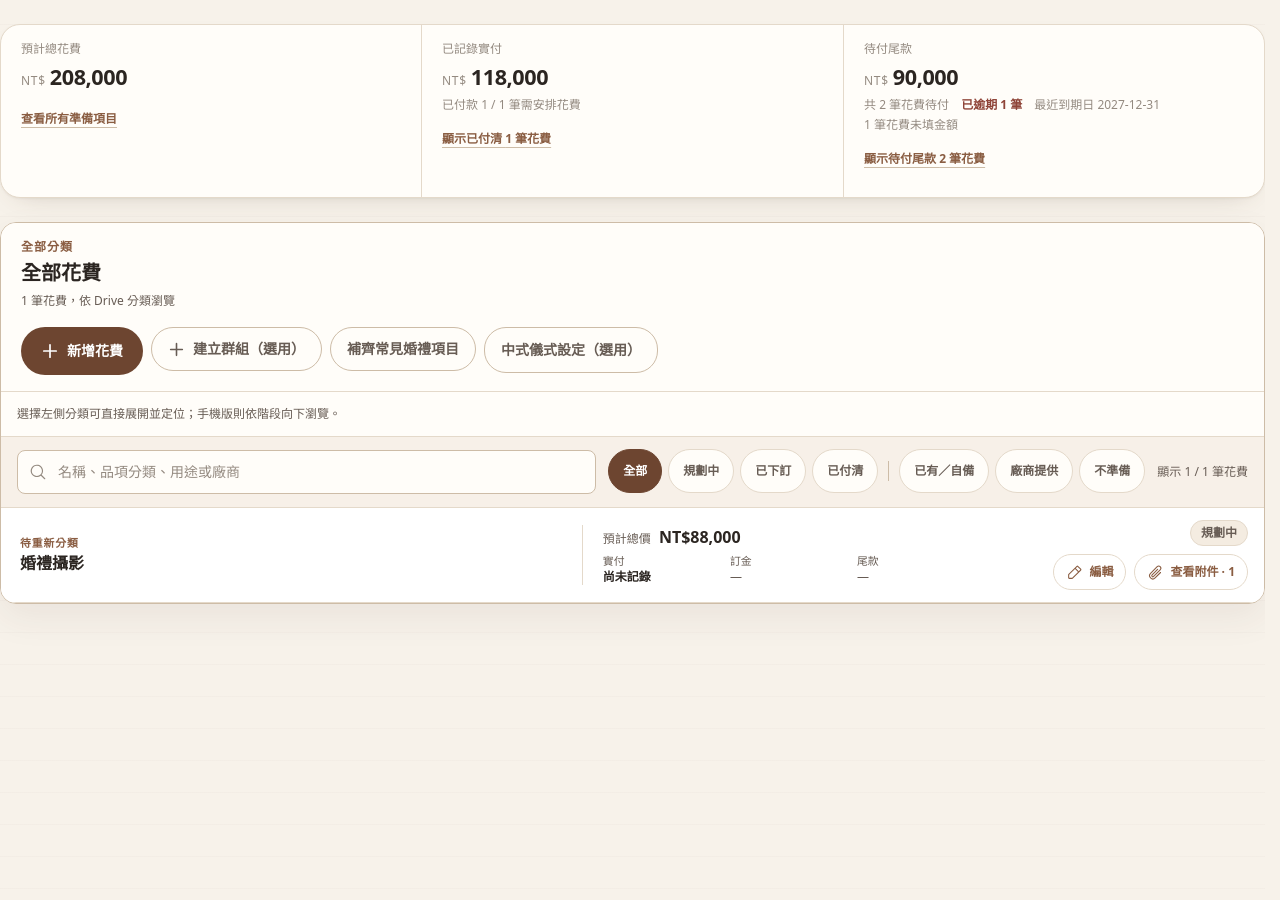
Test: BudgetList › splits EXPENSE rows into an edit action and an attachment-only action
The width and height of the screenshot is (1280, 900).
Expected: the button with aria-label "編輯花費：婚禮攝影" reads "編輯", [1054,554,1126,590]
Expected: the button with aria-label "編輯花費：婚禮攝影" does not show "附件", [1054,554,1126,590]
What coordinates should you click on to do the following:
click the button "查看附件 · 1"
I would click on:
 (1191, 572)
Its box is [1134,554,1248,590].
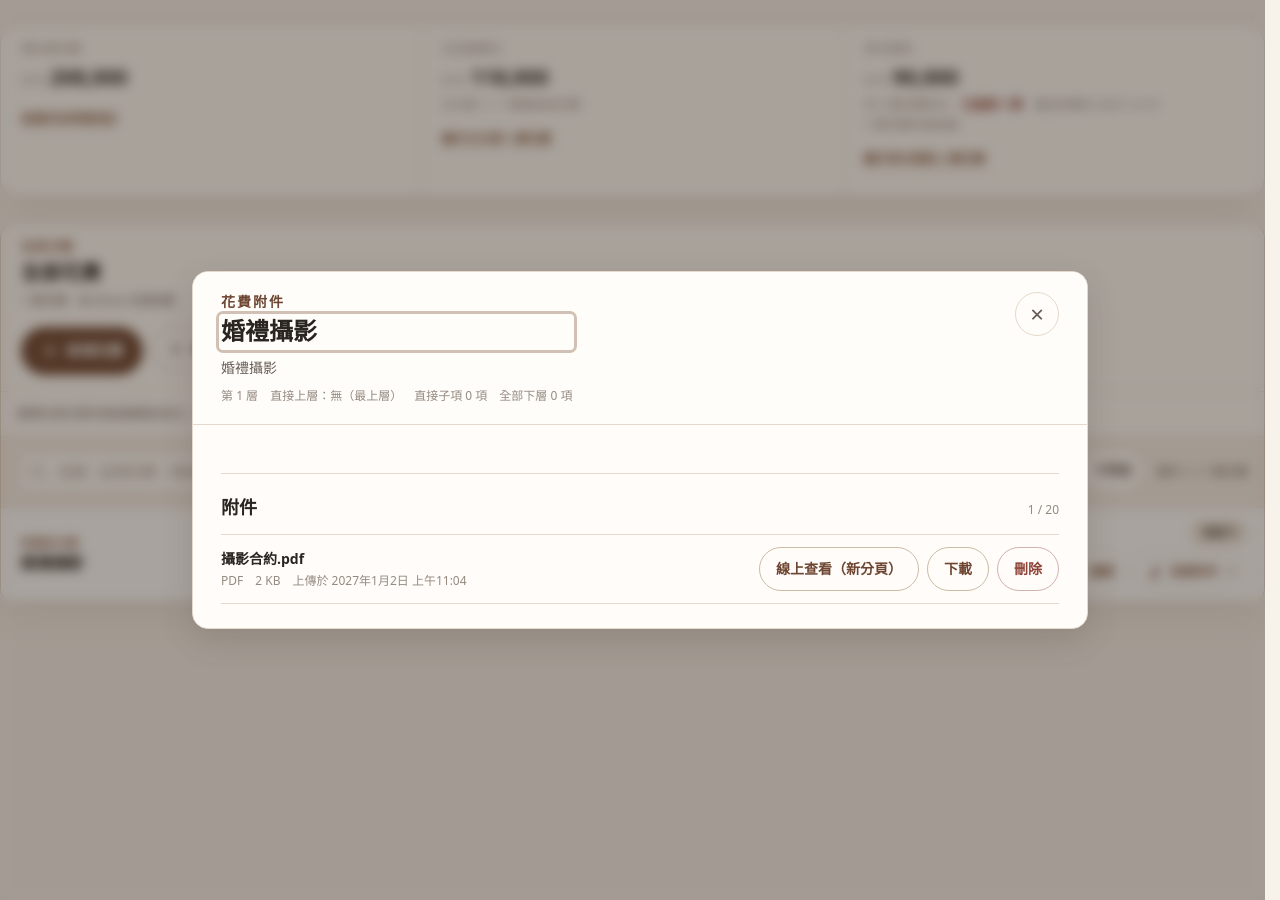
Expected: the text "花費附件" is shown, [221,292,285,311]
Expected: the heading "附件" is shown, [221,494,257,522]
What coordinates should you click on to do the following:
click the button "×"
I would click on:
 (1037, 314)
Its box is [1015,292,1059,336].
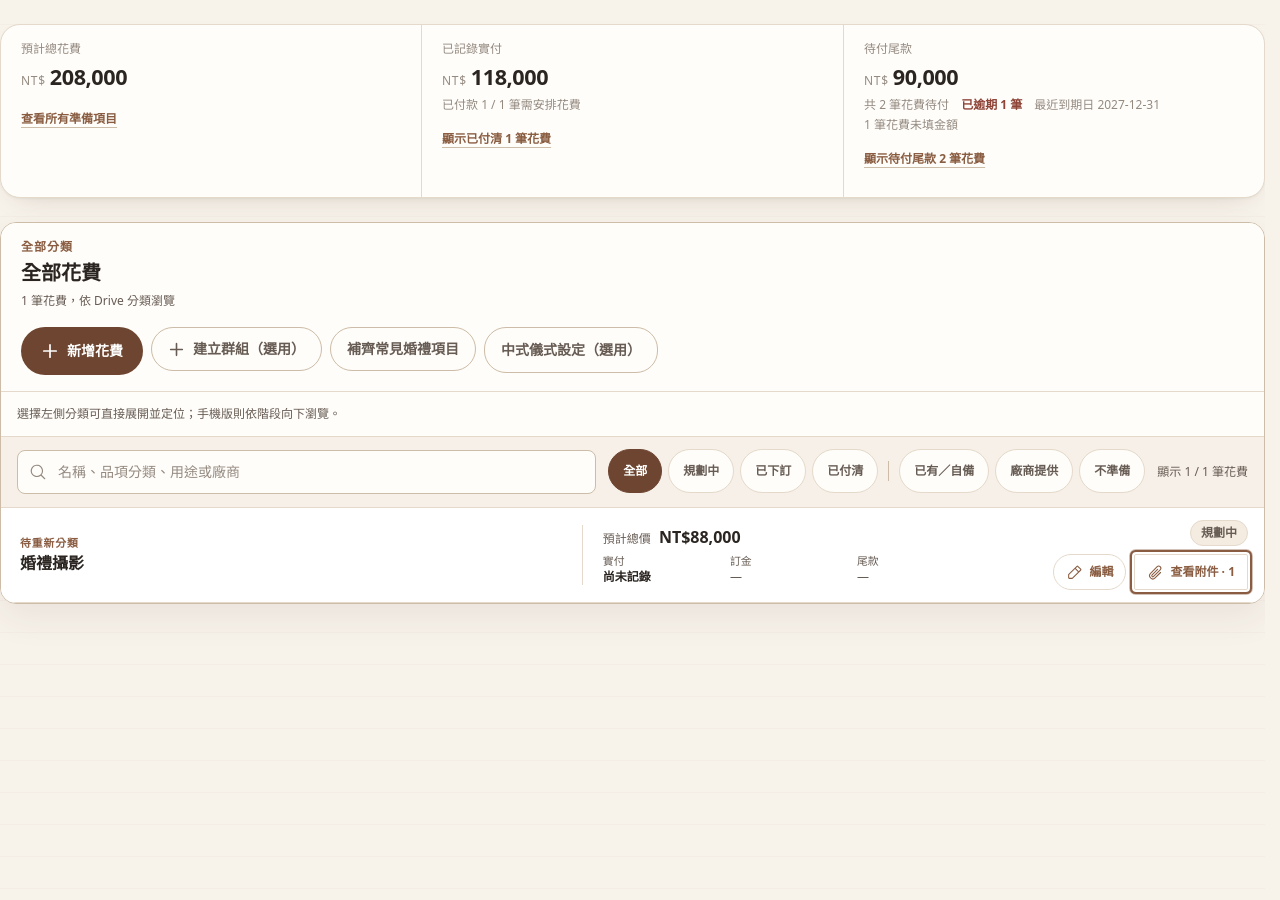
What coordinates should you click on to do the following:
click the button with aria-label "編輯花費：婚禮攝影"
I would click on:
 (1090, 572)
Its box is [1054,554,1126,590].
(page scrolled)
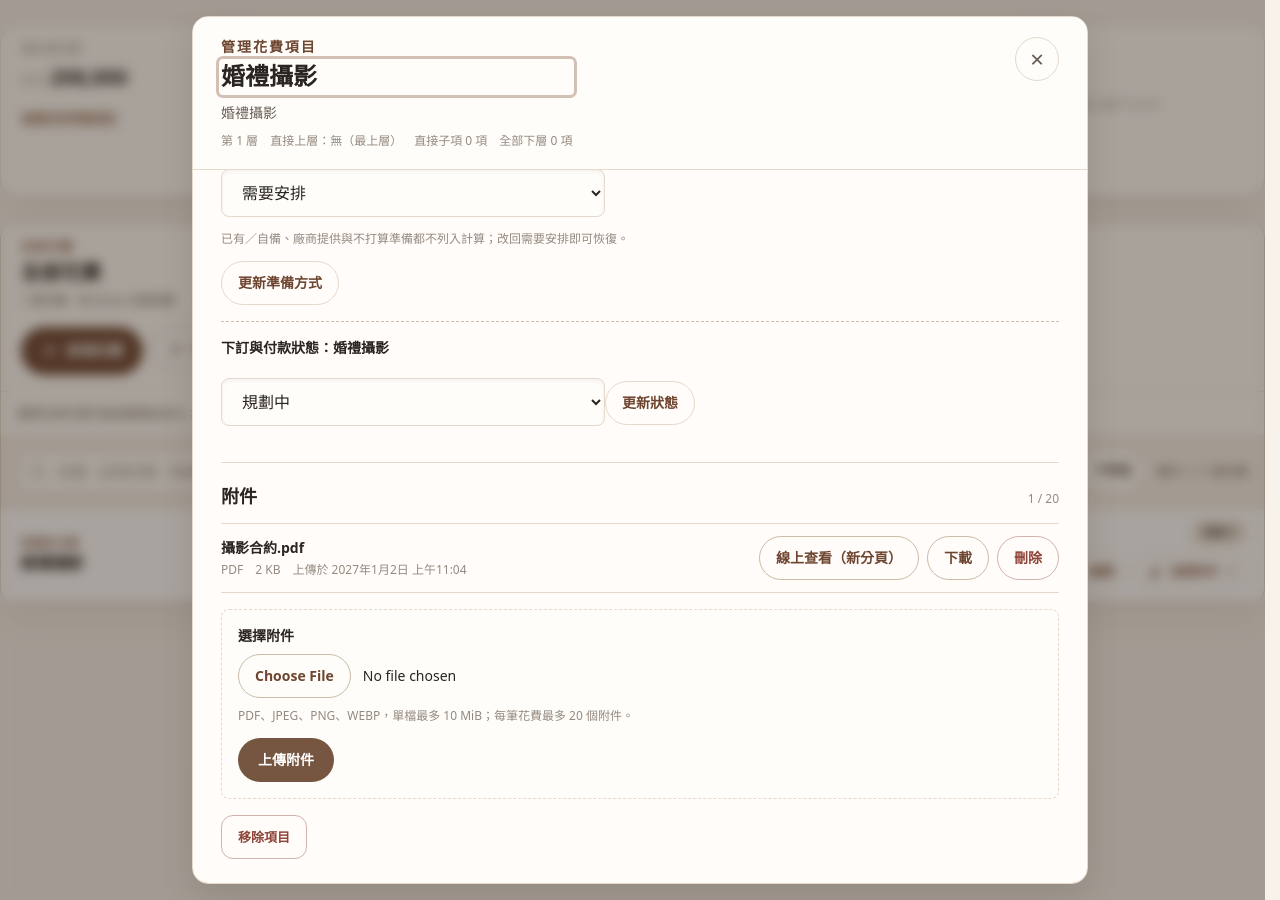
Expected: the heading "附件" is shown, [221,483,257,511]
Expected: the form named "上傳花費附件" is shown, [221,609,1059,799]
